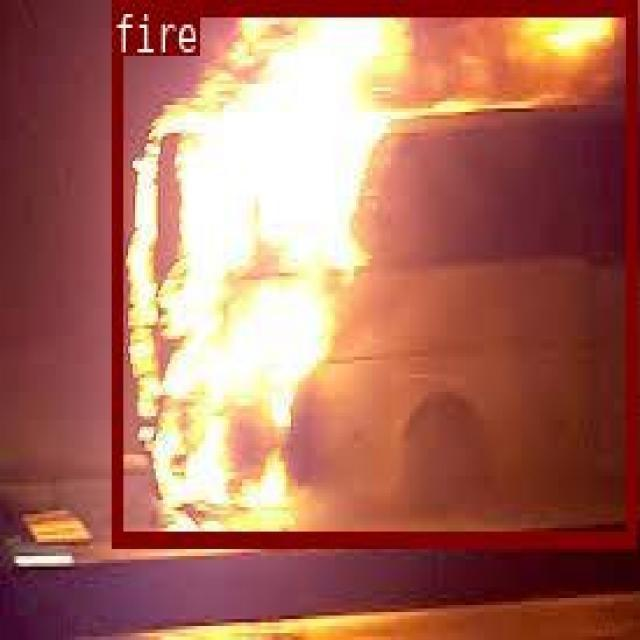fire: (109, 0, 633, 542)
